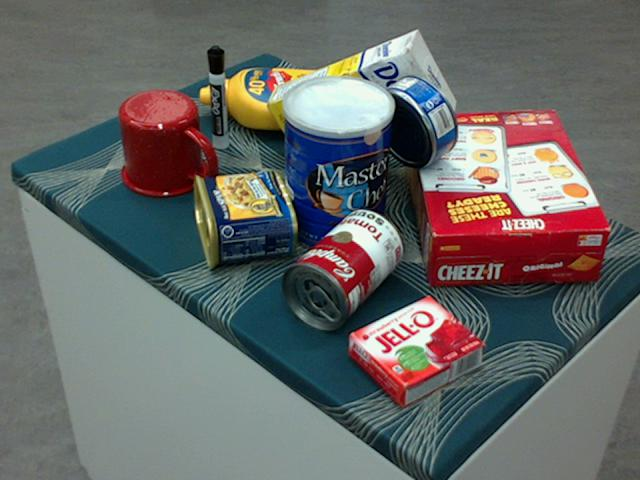cracker_box: (402, 108, 608, 285)
gelatin_box: (348, 295, 484, 405)
large_marker: (205, 44, 229, 148)
master_chef_can: (281, 76, 393, 256)
mug: (118, 89, 214, 197)
mustard_bottle: (198, 66, 365, 132)
potted_meat_can: (190, 169, 296, 269)
sugar_box: (263, 30, 454, 170)
tomato_soup_can: (279, 208, 403, 328)
tuna_fish_can: (372, 73, 458, 166)
